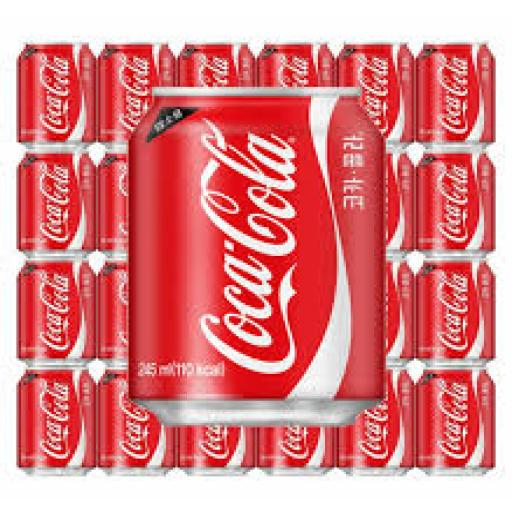Coca: (120, 76, 390, 432), (409, 250, 500, 370), (9, 362, 98, 482), (413, 361, 498, 485), (409, 148, 500, 260), (419, 35, 502, 149), (11, 251, 96, 362), (10, 150, 97, 256), (260, 38, 339, 154), (339, 358, 414, 480), (12, 44, 98, 150), (263, 361, 339, 479), (180, 358, 251, 484), (341, 34, 417, 150), (97, 42, 176, 152), (180, 44, 259, 154), (103, 367, 170, 480)
